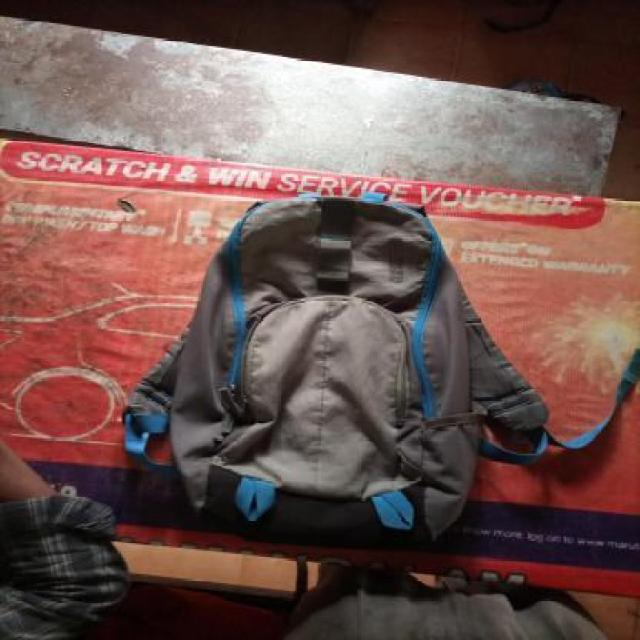backpack: (120, 190, 555, 556)
